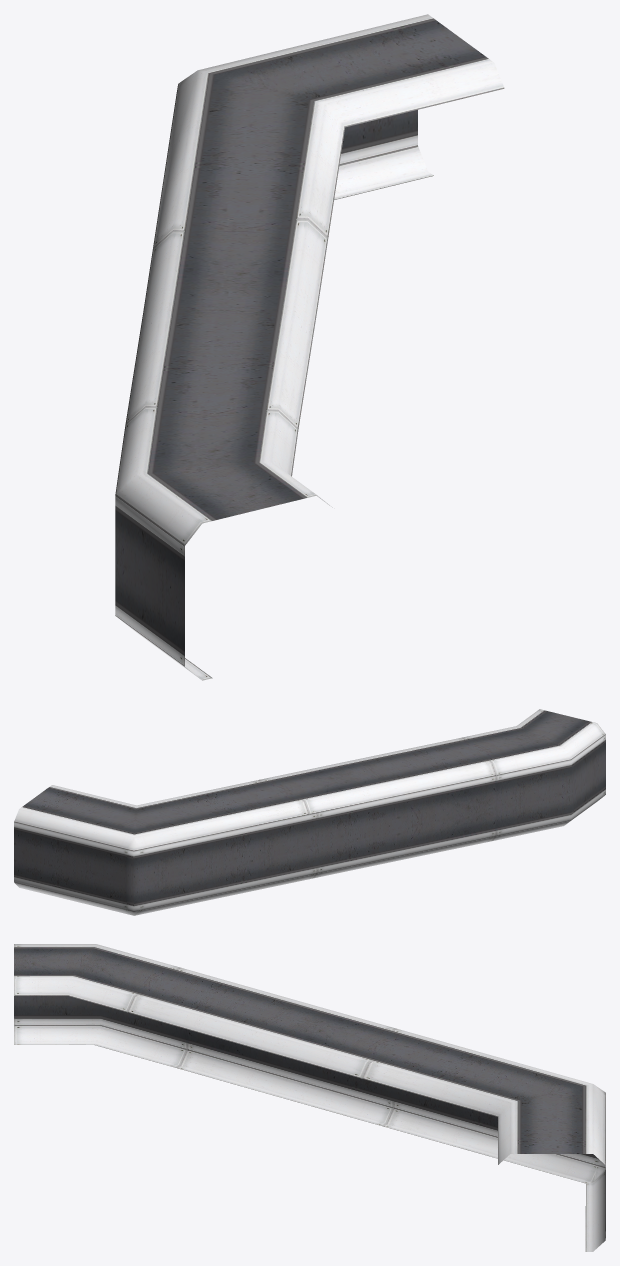
The model's file is GroundTrimCapAngleb.FBX.
3 renders of one model, top to bottom at view 1: azimuth 30°, elevation 25°; view 2: azimuth 150°, elevation 25°; view 3: azimuth 270°, elevation 25°, orthographic. The views are drawn at different scales.
Visible parts, largest first — view 1: GroundTrimCapAngleb; view 2: GroundTrimCapAngleb; view 3: GroundTrimCapAngleb.
Part boxes in pixels (x1,y1,x2,y2): GroundTrimCapAngleb: [115, 14, 504, 680]; GroundTrimCapAngleb: [14, 709, 605, 915]; GroundTrimCapAngleb: [14, 944, 605, 1251].
Bounding box in the file's own units: 6.15 × 1.3 × 7.15.
